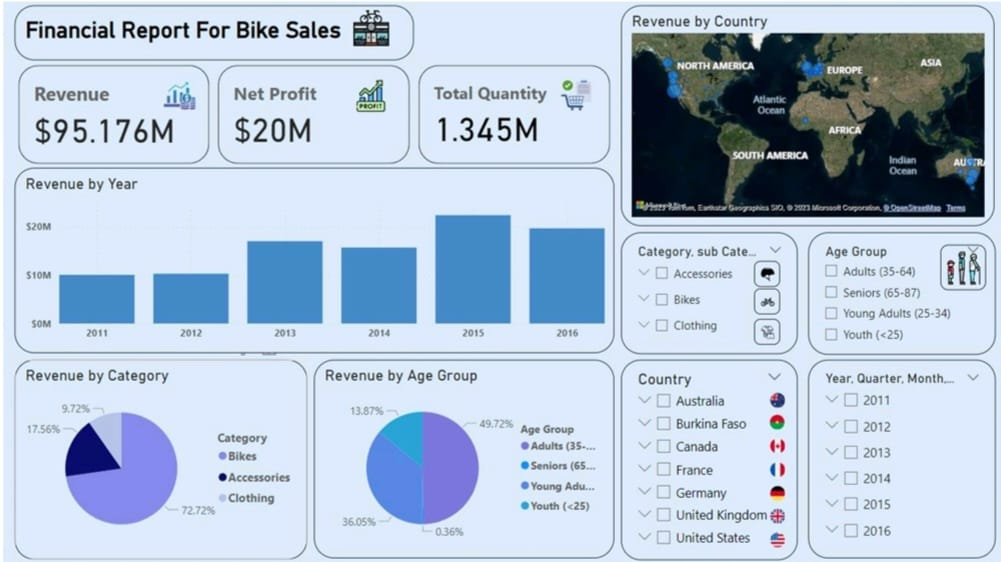

The page's visual inventory and layout, read from the dashboard file:
{"tool":"powerbi","page":{"name":"Summary","canvas":[1280,720],"ordinal":0},"visuals":[{"type":"map","title":"Revenue by Country","fields":{"Size":["Sum(Sales.Revenue)"],"Category":["Sales.State"]},"box":[786.5,12.6,473.7,280.2],"z":0},{"type":"cardVisual","fields":{"Data":["Sum(Sales.Revenue)"]},"box":[16.9,83.2,252.1,135.1],"z":1000},{"type":"cardVisual","fields":{"Data":["Sum(Sales.Net Profit)"]},"box":[270,83.2,253,135],"z":2000},{"type":"slicer","fields":{"Values":["Sales.Age_Group"]},"box":[1023.9,300,237.6,155],"z":3000},{"type":"slicer","title":"Category","fields":{"Values":["Sales.Product_Category","Sales.Sub_Category","Sales.Product"]},"box":[786.3,300,224.3,154],"z":4000},{"type":"slicer","fields":{"Values":["Date.Year","Date.Quarter","Date.Month Name","Date.Day Of Week"]},"box":[1023.9,461.9,237.6,252.1],"z":5000},{"type":"slicer","fields":{"Values":["Sales.Corrected Country","Sales.State"]},"box":[786.3,461.9,224.3,254],"z":6000},{"type":"cardVisual","fields":{"Data":["Sum(Sales.Order_Quantity)"]},"box":[524.6,83.2,253.3,135.1],"z":7000},{"type":"pieChart","title":"Revenue by Category","fields":{"Category":["Sales.Product_Category"],"Y":["Sum(Sales.Revenue)"]},"box":[16.9,461.9,371.5,253.3],"z":8000},{"type":"pieChart","title":"Revenue by Age Group","fields":{"Y":["Sum(Sales.Revenue)"],"Category":["Sales.Age_Group"]},"box":[396.8,461.9,381.1,252.1],"z":10000},{"type":"textbox","box":[16.9,12.1,506.5,69.9],"z":11000},{"type":"lineClusteredColumnComboChart","title":"Revenue by Year","fields":{"Category":["Sales.Year"],"Y":["Sum(Sales.Revenue)"]},"box":[16.9,218.3,761,235],"z":12000},{"type":"image","box":[971,587,28,28],"z":13000},{"type":"image","box":[971,617,28,28],"z":14000},{"type":"image","box":[971,646,28,28],"z":15000},{"type":"image","box":[971,676,28,28],"z":16000},{"type":"image","box":[971,557,28,28],"z":17000},{"type":"image","box":[970.9,499,28,28],"z":18000},{"type":"image","box":[1191.6,316,57.9,57.9],"z":19000},{"type":"image","box":[955,371,33,33],"z":20000},{"type":"image","box":[955,410,33,33],"z":21000},{"type":"image","box":[955.2,336,33,33],"z":22000},{"type":"image","box":[201.4,101.3,49.4,50.7],"z":23000},{"type":"image","box":[704.3,101.3,49.4,49.4],"z":24000},{"type":"image","box":[431.8,12.1,74.8,57.9],"z":25000},{"type":"image","box":[443.8,101.3,49.4,50.7],"z":26000},{"type":"image","box":[969.6,527,28.9,28],"z":27000}]}

Visuals, with their boxes in screenshot pixels (x1, y1, x2, y2), scaled from the page's 1280x720 canvas onto the 1001x562 screenshot:
"Revenue by Country" map: x1=615, y1=10, x2=986, y2=229
cardVisual - Sum(Sales.Revenue): x1=13, y1=65, x2=210, y2=170
cardVisual - Sum(Sales.Net Profit): x1=211, y1=65, x2=409, y2=170
slicer - Sales.Age_Group: x1=801, y1=234, x2=987, y2=355
"Category" slicer: x1=615, y1=234, x2=790, y2=354
slicer - Date.Year x Date.Quarter: x1=801, y1=361, x2=987, y2=557
slicer - Sales.Corrected Country x Sales.State: x1=615, y1=361, x2=790, y2=559
cardVisual - Sum(Sales.Order_Quantity): x1=410, y1=65, x2=608, y2=170
"Revenue by Category" pieChart: x1=13, y1=361, x2=304, y2=558
"Revenue by Age Group" pieChart: x1=310, y1=361, x2=608, y2=557
textbox: x1=13, y1=9, x2=409, y2=64
"Revenue by Year" lineClusteredColumnComboChart: x1=13, y1=170, x2=608, y2=354
image: x1=759, y1=458, x2=781, y2=480
image: x1=759, y1=482, x2=781, y2=503
image: x1=759, y1=504, x2=781, y2=526
image: x1=759, y1=528, x2=781, y2=550
image: x1=759, y1=435, x2=781, y2=457
image: x1=759, y1=389, x2=781, y2=411
image: x1=932, y1=247, x2=977, y2=292
image: x1=747, y1=290, x2=773, y2=315
image: x1=747, y1=320, x2=773, y2=346
image: x1=747, y1=262, x2=773, y2=288
image: x1=158, y1=79, x2=196, y2=119
image: x1=551, y1=79, x2=589, y2=118
image: x1=338, y1=9, x2=396, y2=55
image: x1=347, y1=79, x2=386, y2=119
image: x1=758, y1=411, x2=781, y2=433
